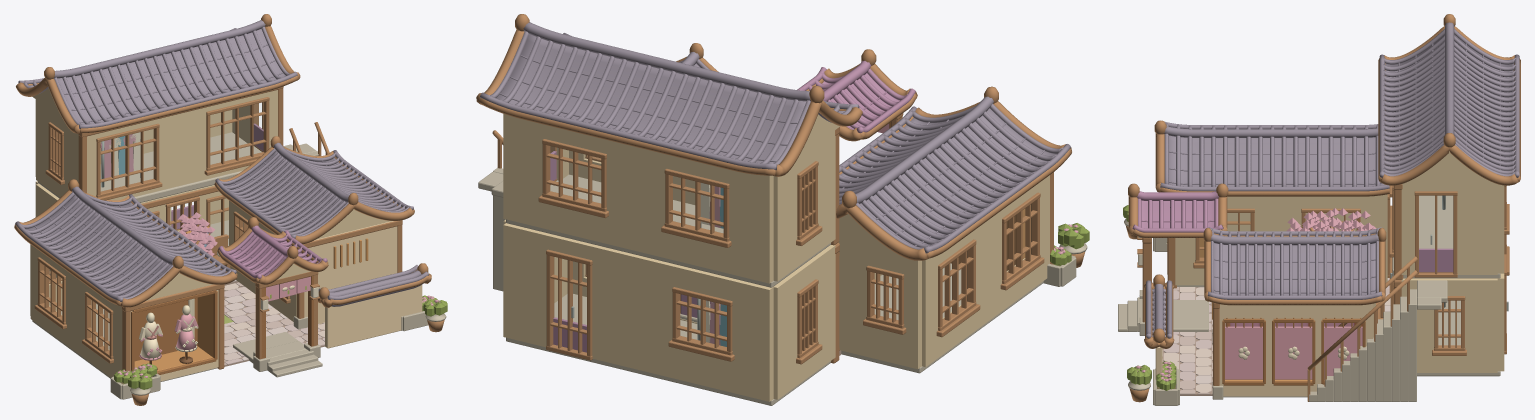
The picture shows the model from 3 angles, left to right: view 1: azimuth 30°, elevation 25°; view 2: azimuth 150°, elevation 25°; view 3: azimuth 270°, elevation 25°; orthographic projection. The views are drawn at different scales.
Parts seen in each view (by area): view 1: SM_15_02_曲面屋顶, SM_15_01_建筑墙体, SM_15_04_门窗楼梯, SM_15_03_木构回廊, SM_15_05_景观植物, SM_15_06_院内及专用铺地, SM_15_06_景观设施; view 2: SM_15_01_建筑墙体, SM_15_02_曲面屋顶, SM_15_04_门窗楼梯, SM_15_05_景观植物, SM_15_03_木构回廊, SM_15_06_景观设施; view 3: SM_15_02_曲面屋顶, SM_15_01_建筑墙体, SM_15_04_门窗楼梯, SM_15_05_景观植物, SM_15_06_院内及专用铺地, SM_15_03_木构回廊.
Part boxes in pixels (left/top/right/bottom): SM_15_02_曲面屋顶: left=14, top=14, right=431, bottom=307; SM_15_01_建筑墙体: left=30, top=88, right=422, bottom=381; SM_15_04_门窗楼梯: left=34, top=97, right=368, bottom=377; SM_15_03_木构回廊: left=78, top=86, right=402, bottom=371; SM_15_05_景观植物: left=110, top=212, right=447, bottom=405; SM_15_06_院内及专用铺地: left=224, top=280, right=324, bottom=366; SM_15_06_景观设施: left=100, top=132, right=294, bottom=369; SM_15_01_建筑墙体: left=503, top=114, right=1049, bottom=405; SM_15_02_曲面屋顶: left=476, top=14, right=1071, bottom=260; SM_15_04_门窗楼梯: left=478, top=123, right=1044, bottom=364; SM_15_05_景观植物: left=1043, top=223, right=1089, bottom=286; SM_15_03_木构回廊: left=831, top=113, right=1053, bottom=363; SM_15_06_景观设施: left=697, top=183, right=726, bottom=346; SM_15_02_曲面屋顶: left=1128, top=14, right=1520, bottom=348; SM_15_01_建筑墙体: left=1155, top=151, right=1504, bottom=397; SM_15_04_门窗楼梯: left=1118, top=185, right=1509, bottom=401; SM_15_05_景观植物: left=1123, top=205, right=1376, bottom=405; SM_15_06_院内及专用铺地: left=1162, top=278, right=1390, bottom=395; SM_15_03_木构回廊: left=1139, top=184, right=1403, bottom=399.
Bounding box in the file's own units: 10.82 × 7.14 × 10.46.
Materials: 40 (1 with a texture image).
